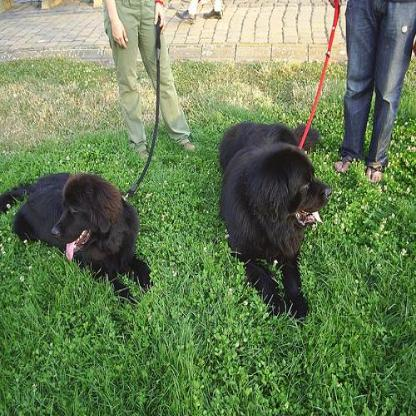Newfoundland: (217, 120, 333, 320), (0, 169, 153, 300)
